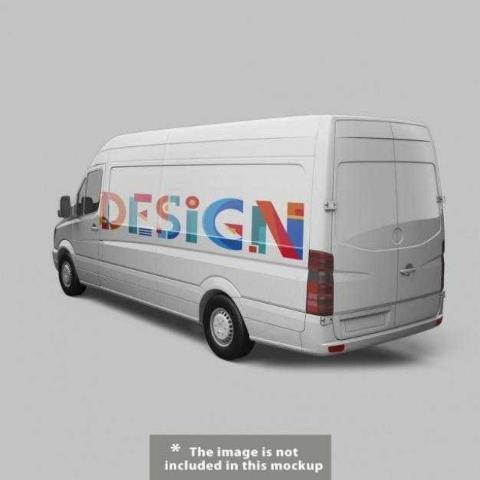van: (52, 114, 447, 362)
